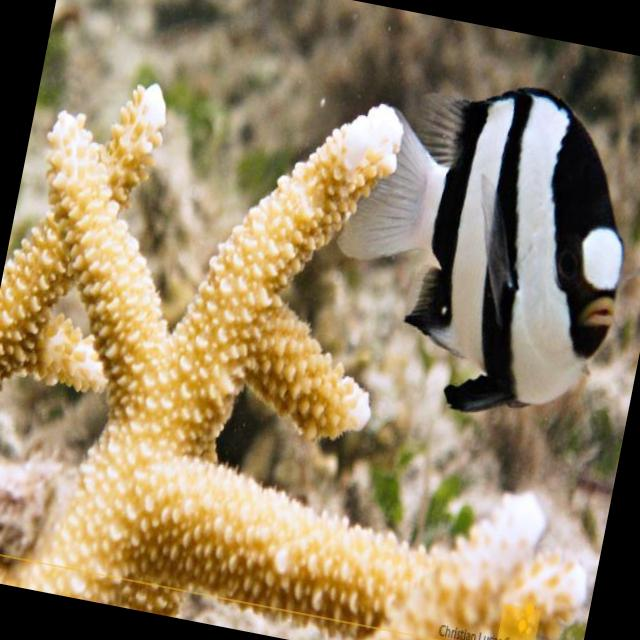Three_striped DasmselFish: (301, 57, 640, 440)
